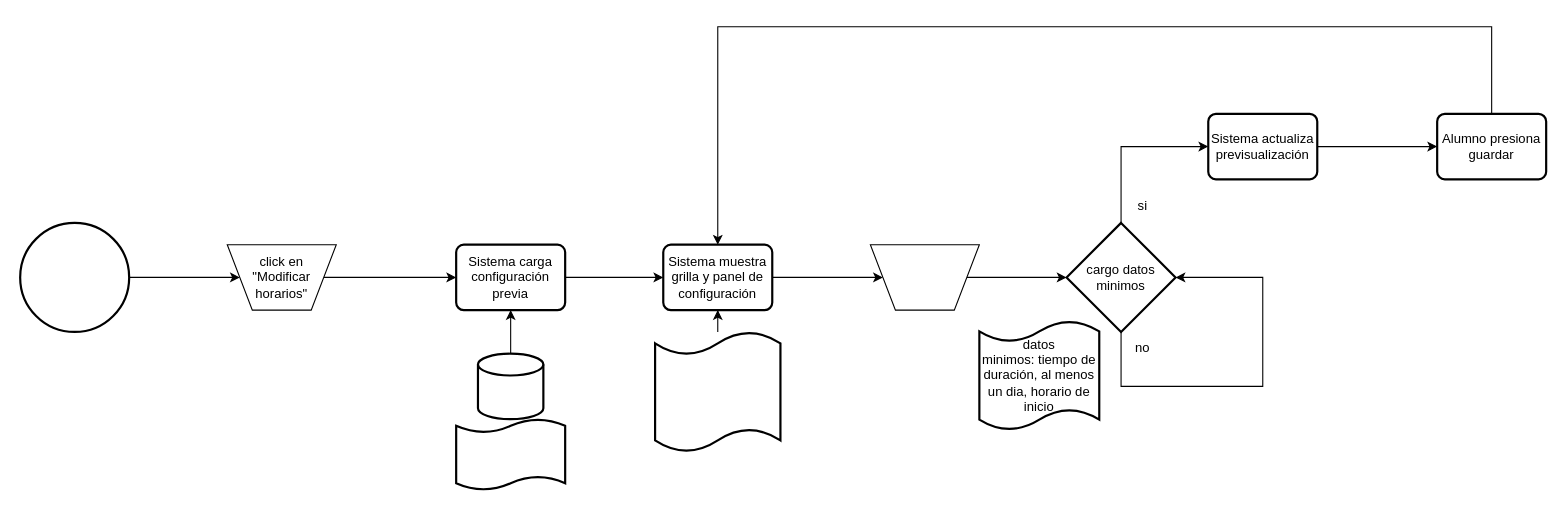
Some shapes in this 1565 by 510 pixel diagram are drawn without their labels. The centre of each missing label's shape, as x and y in pixels:
Alumno crea actividad: point 924,277
Calcula visualizacion a partir de datos de actividades personales: point 717,391
dias visualizables, actividades ya cargadas: point 510,454
